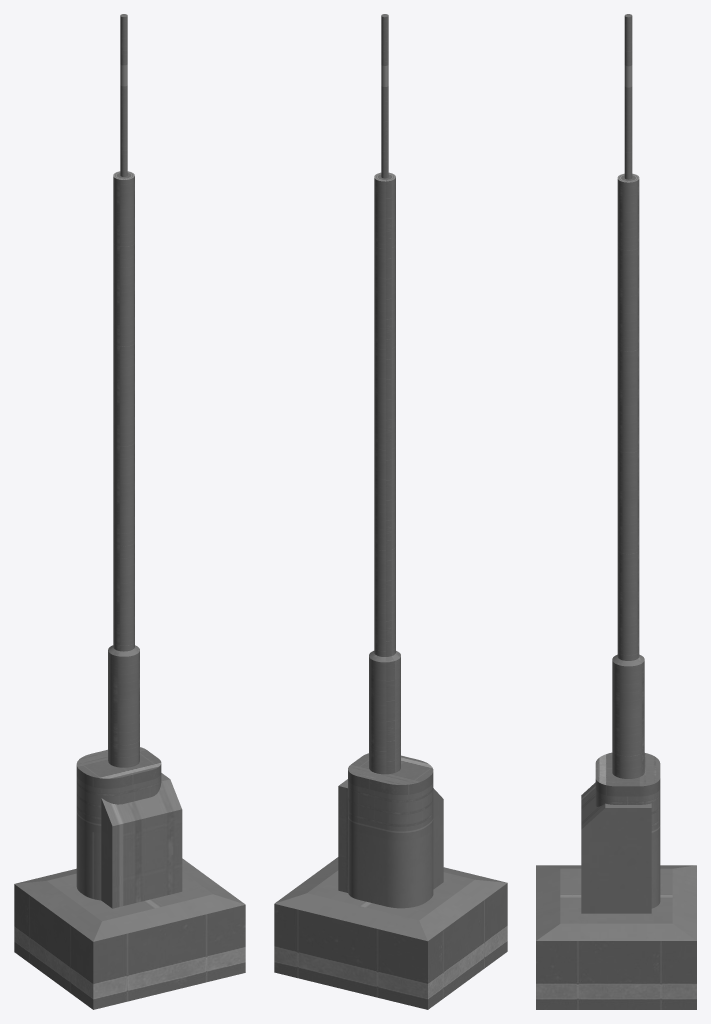
The model's file is SM_antenna_03.glb.
The picture shows the model from 3 angles, left to right: view 1: azimuth 30°, elevation 25°; view 2: azimuth 150°, elevation 25°; view 3: azimuth 270°, elevation 25°; orthographic projection.
Visible parts, largest first — view 1: SM_antenna_03; view 2: SM_antenna_03; view 3: SM_antenna_03.
Boxes of the visible parts, box(x1,y1,x2,y2) form: SM_antenna_03: box(14, 14, 245, 1009); SM_antenna_03: box(274, 14, 507, 1009); SM_antenna_03: box(536, 14, 696, 1009).
Size of the model in its own units: 1.85 by 10.96 by 1.67.
1 material, 1 textured.
